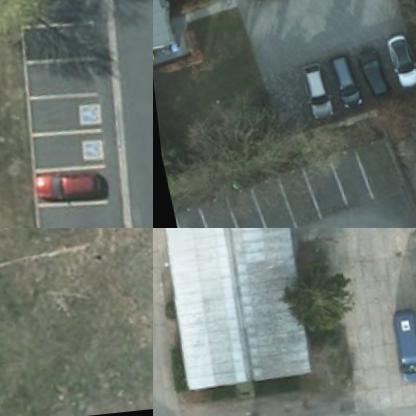car: (26, 162, 106, 215), (326, 57, 363, 116), (357, 44, 394, 103), (298, 70, 332, 126), (385, 40, 415, 100)
van: (386, 314, 415, 392)
